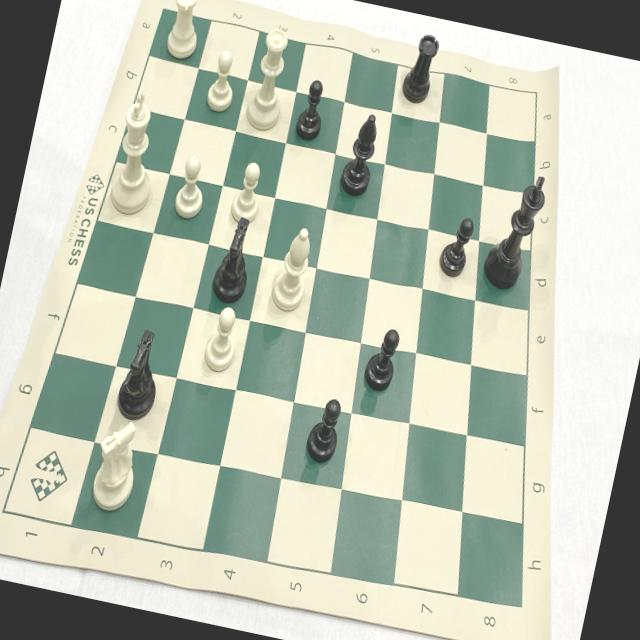black-bishop: (330, 100, 393, 206)
black-king: (474, 156, 556, 302)
black-knight: (106, 317, 174, 428), (202, 209, 266, 314)
black-pawn: (299, 384, 353, 472), (356, 318, 408, 402), (286, 68, 338, 150), (430, 206, 480, 286)
black-rook: (392, 25, 446, 116)
white-bishop: (262, 212, 322, 320)
white-king: (96, 84, 176, 222)
white-knight: (82, 409, 150, 516)
white-pawn: (190, 296, 249, 383), (166, 144, 218, 228), (198, 43, 248, 119), (225, 153, 272, 231)
white-queen: (238, 19, 303, 140)
white-rook: (155, 0, 213, 68)
